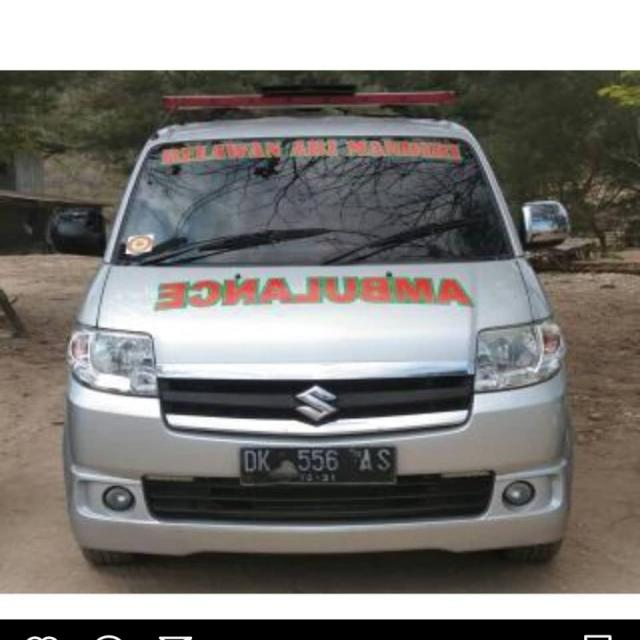emergency-vehicle: (51, 92, 582, 560)
